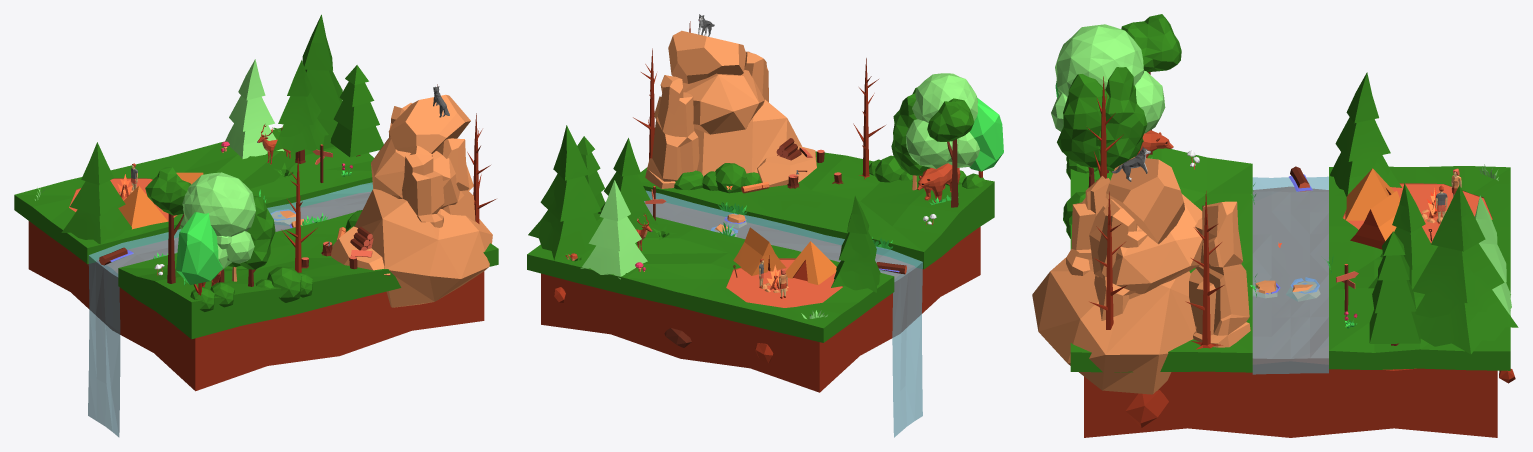
File: MiniMundo-CampingConRio.glb
3 views of the same model, side by side, from view 1: azimuth 30°, elevation 25°; view 2: azimuth 150°, elevation 25°; view 3: azimuth 270°, elevation 25° (orthographic). The views are drawn at different scales.
Visible parts, largest first — view 1: world-forest, stone-round.002, tree-lime.001, tree-spruce, stone-diamond.001, tree-fir, tree_04 (3), tree_04 (2), tree-simple, stone_03 (1), rock03 (2), tree_04 (1) (+10 smaller); view 2: world-forest, tree_04 (2), rock03 (1), tree-lime.001, stone-round.002, stone_03 (1), tree_04 (3), stone-diamond.001, tree-spruce, tree-tall, tree-simple, tree_04 (1) (+13 smaller); view 3: world-forest, stone-round.002, tree_04 (2), rock03 (1), tree-lime.001, stone_03 (1), stone-diamond.001, tree-spruce, tree-fir, tree-beech, tree-birch, rock-pillar (+11 smaller).
Part boxes in pixels (bbox=[...]): world-forest: bbox=[14, 127, 498, 436]; stone-round.002: bbox=[354, 189, 492, 307]; tree-lime.001: bbox=[180, 172, 255, 282]; tree-spruce: bbox=[61, 142, 131, 244]; stone-diamond.001: bbox=[388, 94, 470, 153]; tree-fir: bbox=[330, 65, 383, 157]; tree_04 (3): bbox=[225, 59, 284, 158]; tree_04 (2): bbox=[302, 14, 342, 150]; tree-simple: bbox=[176, 212, 222, 295]; stone_03 (1): bbox=[371, 136, 473, 208]; rock03 (2): bbox=[402, 145, 444, 227]; tree_04 (1): bbox=[273, 60, 328, 163]; world-forest: bbox=[527, 151, 994, 437]; tree_04 (2): bbox=[528, 125, 601, 260]; rock03 (1): bbox=[645, 75, 699, 188]; tree-lime.001: bbox=[906, 73, 979, 168]; stone-round.002: bbox=[694, 99, 801, 176]; stone_03 (1): bbox=[682, 70, 764, 134]; tree_04 (3): bbox=[580, 180, 647, 279]; stone-diamond.001: bbox=[668, 30, 746, 83]; tree-spruce: bbox=[831, 196, 880, 292]; tree-tall: bbox=[927, 98, 974, 207]; tree-simple: bbox=[969, 98, 1003, 177]; tree_04 (1): bbox=[602, 138, 657, 228]; world-forest: bbox=[1070, 148, 1515, 437]; stone-round.002: bbox=[1032, 258, 1195, 394]; tree_04 (2): bbox=[1412, 185, 1518, 354]; rock03 (1): bbox=[1189, 201, 1250, 347]; tree-lime.001: bbox=[1051, 24, 1165, 173]; stone_03 (1): bbox=[1089, 194, 1202, 293]; stone-diamond.001: bbox=[1105, 157, 1184, 244]; tree-spruce: bbox=[1330, 72, 1401, 196]; tree-fir: bbox=[1369, 231, 1420, 345]; tree-beech: bbox=[1057, 74, 1109, 187]; tree-birch: bbox=[1096, 67, 1147, 171]; rock-pillar: bbox=[1094, 199, 1147, 320].
Bounding box in the file's own units: 21.62 × 19.72 × 22.12.
